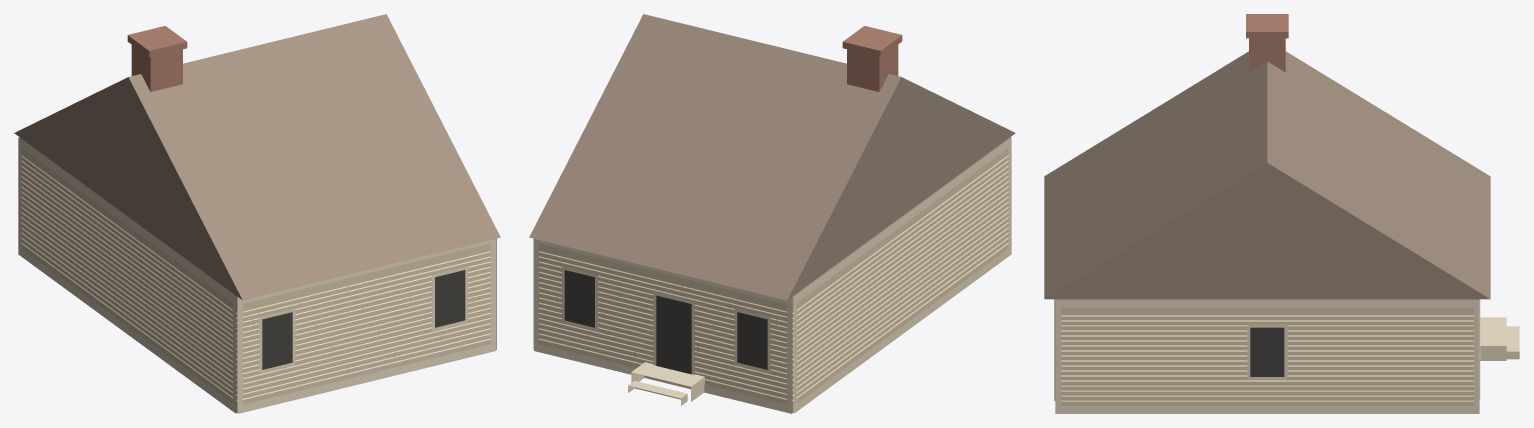
File: recon_1835_south_d5_004__inferred_1835.glb
3 views of the same model, side by side, from view 1: azimuth 30°, elevation 25°; view 2: azimuth 150°, elevation 25°; view 3: azimuth 270°, elevation 25° (orthographic). The views are drawn at different scales.
Parts seen in each view (by area): view 1: recon_1835_south_d5_004__inferred_1835; view 2: recon_1835_south_d5_004__inferred_1835; view 3: recon_1835_south_d5_004__inferred_1835.
Boxes of the visible parts, left/top/right/bottom form: recon_1835_south_d5_004__inferred_1835: left=14, top=14, right=500, bottom=413; recon_1835_south_d5_004__inferred_1835: left=529, top=14, right=1015, bottom=413; recon_1835_south_d5_004__inferred_1835: left=1044, top=14, right=1519, bottom=413.
Size of the model in its own units: 6.76 by 7.13 by 10.93.
